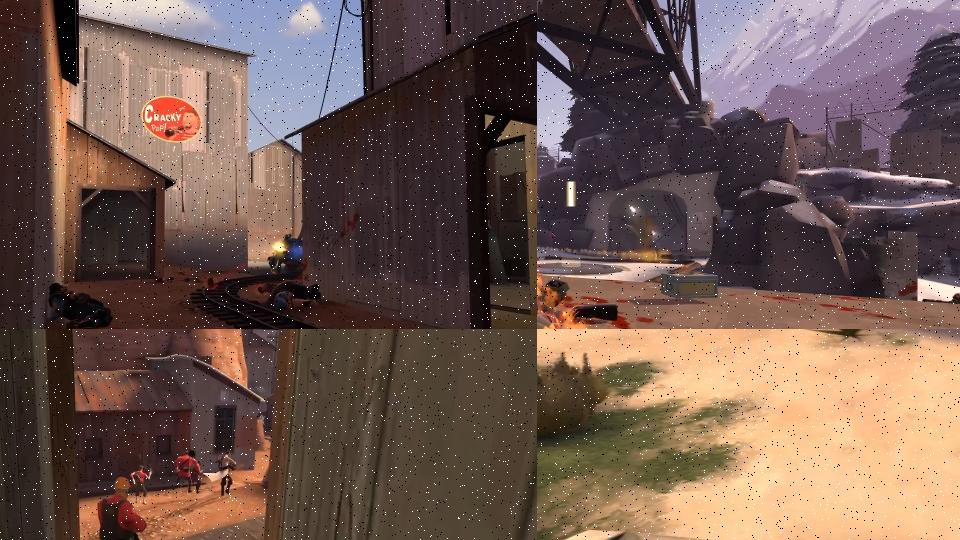Enemy: (94, 475, 152, 540), (42, 278, 115, 329), (257, 275, 326, 315), (203, 448, 236, 497), (172, 449, 196, 494), (129, 465, 153, 507), (188, 459, 205, 493), (945, 272, 960, 307)
